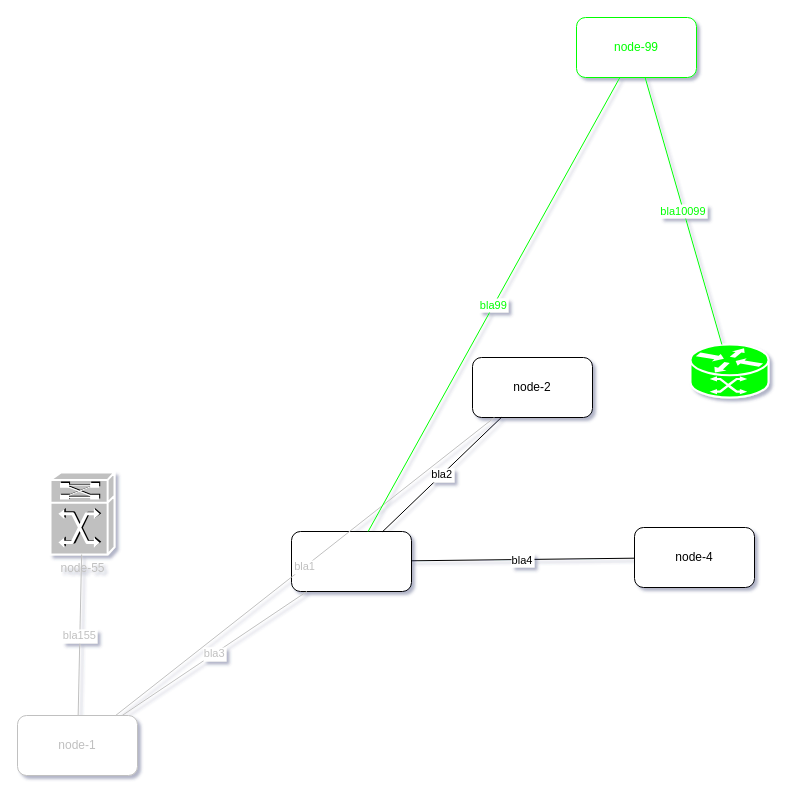
The diagram is 793 pixels wide and 799 high, and some of its shapes have lost their labels. The shapes that lost their labels are listed below. From the top down, each one's centre as x and y in pixels, then its label:
At (x=729, y=370): "node-100".
At (x=351, y=561): "node-3".
